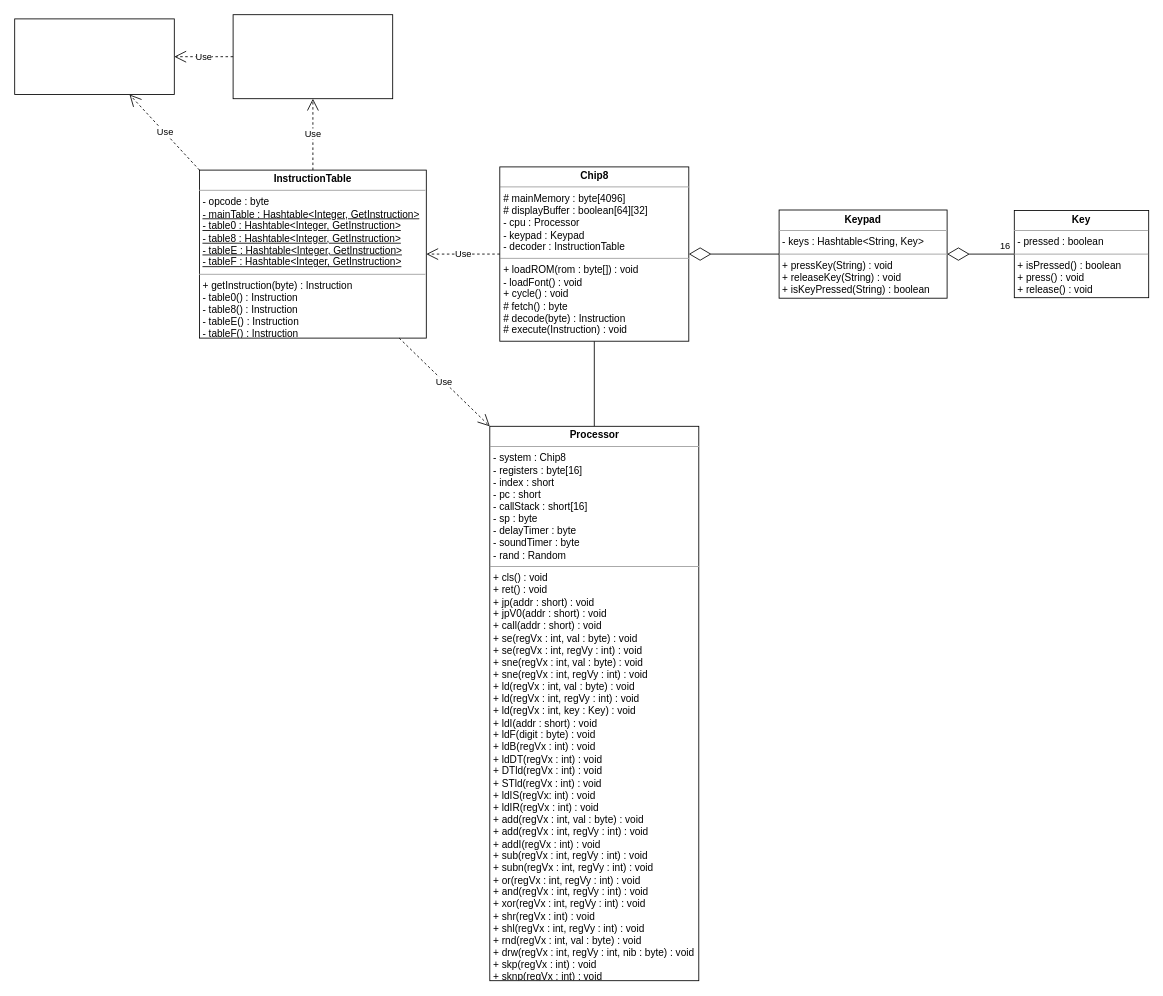
This 1163x996 diagram has some shape labels left out. Here are the shapes that lost their labels. From the top down, the centre of each, then its label:
At (94,56): "<<Interface>> Instruction + do() : void".
At (312,56): "<<Interface>> GetInstruction + getInstruction() : Instruction".
